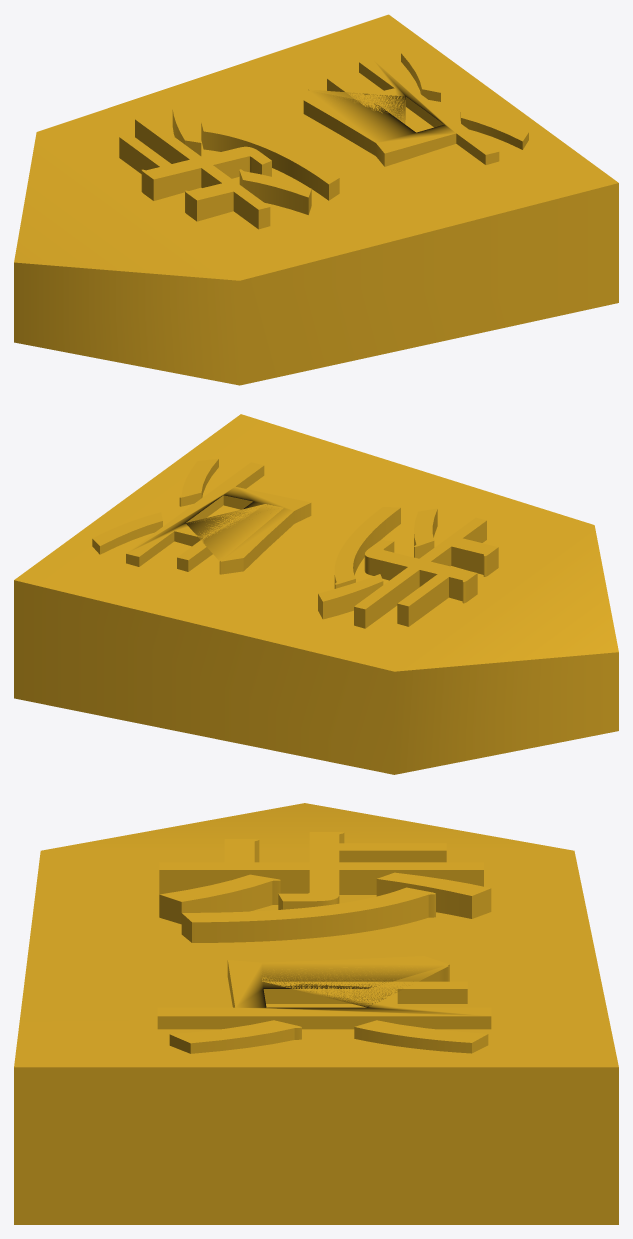
File: pawn.fbx
3 renders of one model, top to bottom at view 1: azimuth 30°, elevation 25°; view 2: azimuth 150°, elevation 25°; view 3: azimuth 270°, elevation 25°, orthographic. The views are drawn at different scales.
Parts seen in each view (by area): view 1: pCube1, typeMesh1; view 2: pCube1, typeMesh1; view 3: pCube1, typeMesh1.
Boxes of the visible parts, left/top/right/bottom form: pCube1: left=14, top=14, right=618, bottom=385; typeMesh1: left=119, top=53, right=528, bottom=229; pCube1: left=14, top=414, right=618, bottom=774; typeMesh1: left=92, top=458, right=498, bottom=628; pCube1: left=14, top=803, right=618, bottom=1224; typeMesh1: left=157, top=832, right=491, bottom=1053.
Bounding box in the file's own units: 6.47 × 1.59 × 5.22.
